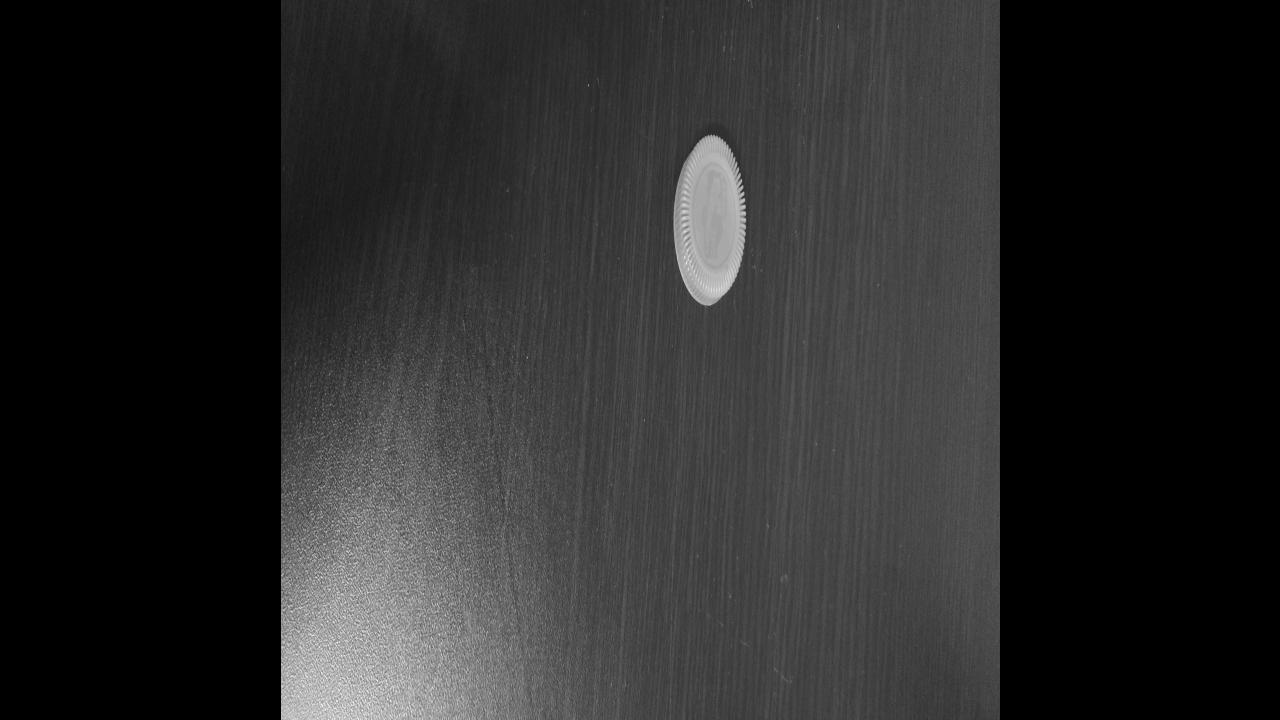bottle_cap: (671, 130, 746, 308)
